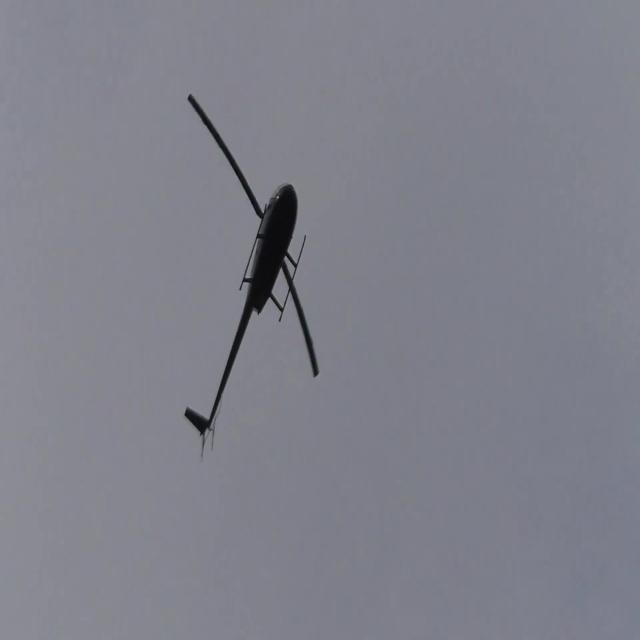CIV_HELO: (184, 180, 306, 437)
